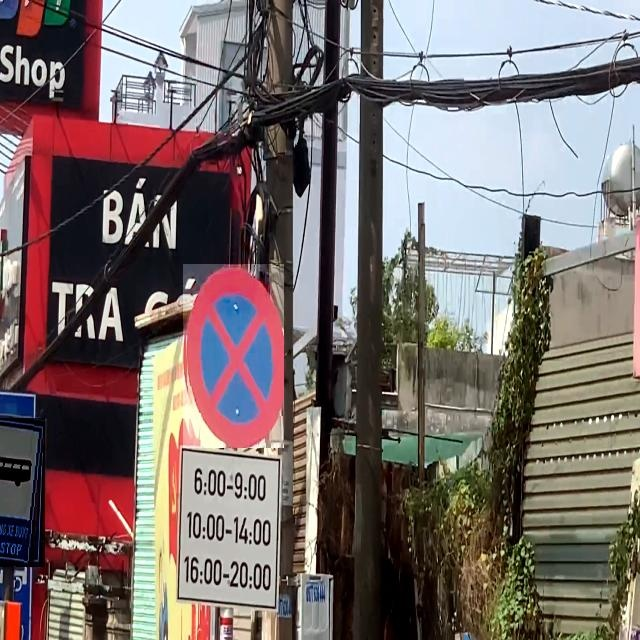bien_cam: (183, 264, 284, 448), (0, 418, 45, 567)
